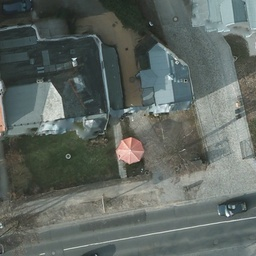car: (214, 199, 247, 217), (1, 1, 34, 13)
